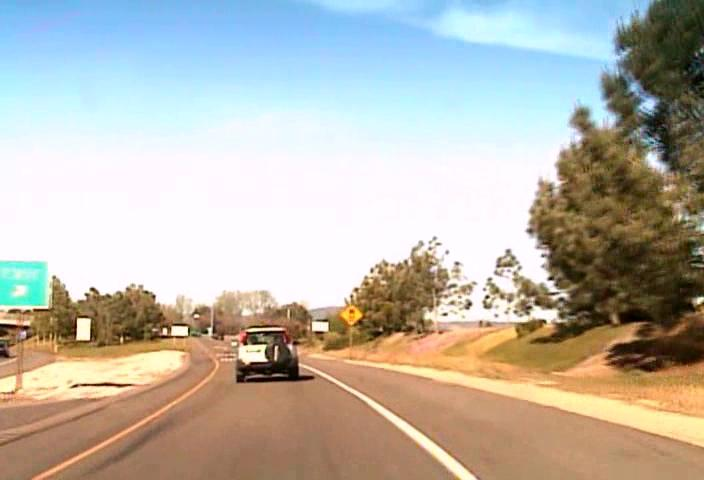signalAhead: (339, 303, 363, 325)
